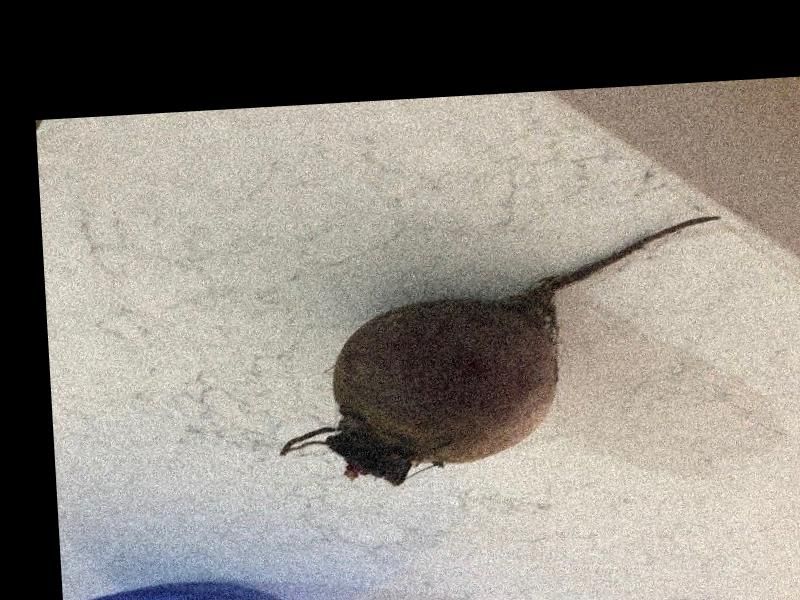Beet: (270, 214, 731, 490)
